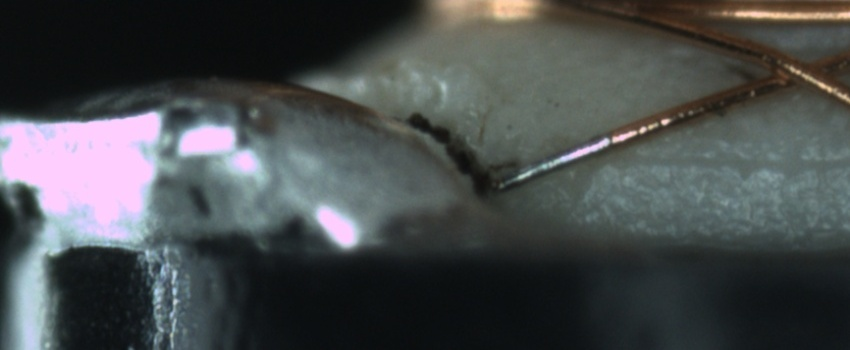CL: (731, 45, 850, 100)
DL: (604, 129, 850, 193)
TS: (490, 132, 613, 194)
